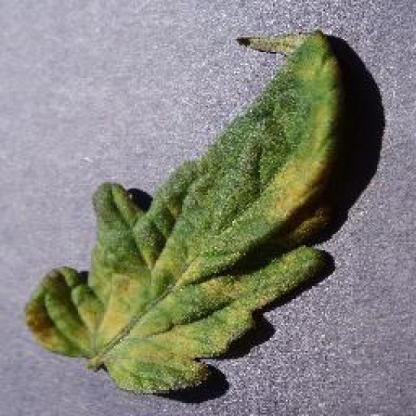Strawberry_Anthracnose_Fruit_Rot: (263, 156, 321, 224), (94, 273, 144, 343), (140, 329, 208, 368)
